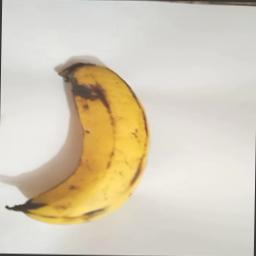Banana Unripe: (15, 62, 154, 225)
